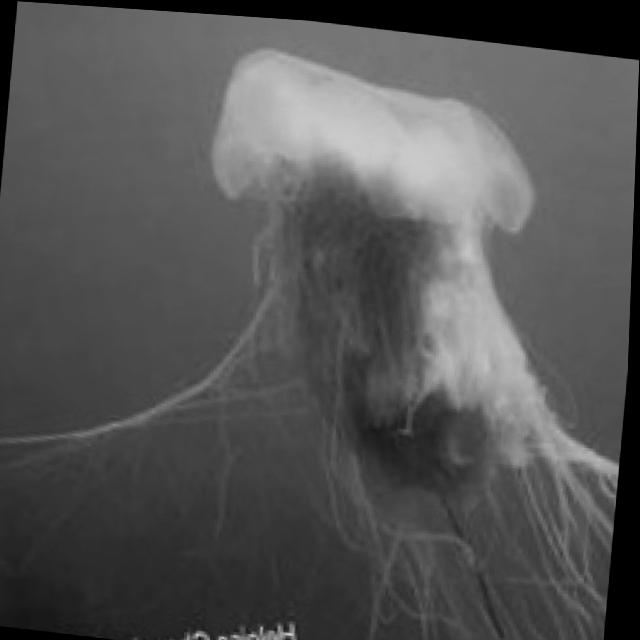Moon-jellyfish: (0, 9, 640, 640)
